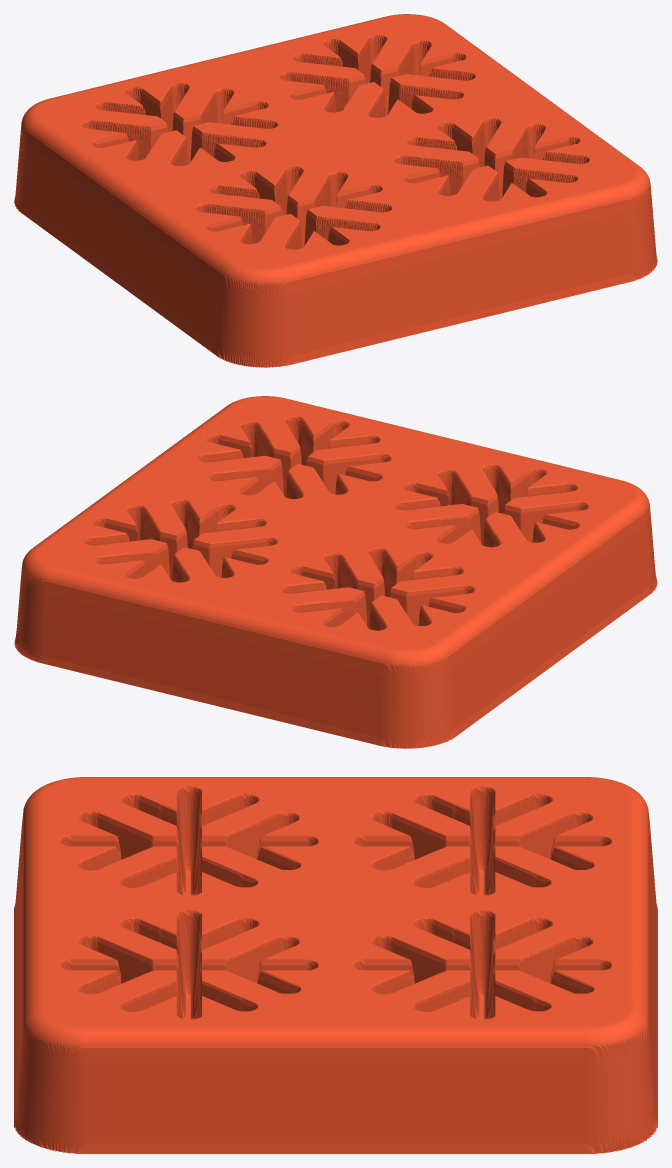
File: mold.glb
The picture shows the model from 3 angles, top to bottom: view 1: azimuth 30°, elevation 25°; view 2: azimuth 150°, elevation 25°; view 3: azimuth 270°, elevation 25°; orthographic projection. The views are drawn at different scales.
Visible parts, largest first — view 1: geometry_0; view 2: geometry_0; view 3: geometry_0.
Part boxes in pixels (x1=…): geometry_0: x1=14, y1=14, x2=657, y2=367; geometry_0: x1=14, y1=396, x2=657, y2=748; geometry_0: x1=14, y1=777, x2=657, y2=1153.
Size of the model in its own units: 0.0808 by 0.0159 by 0.0808.
